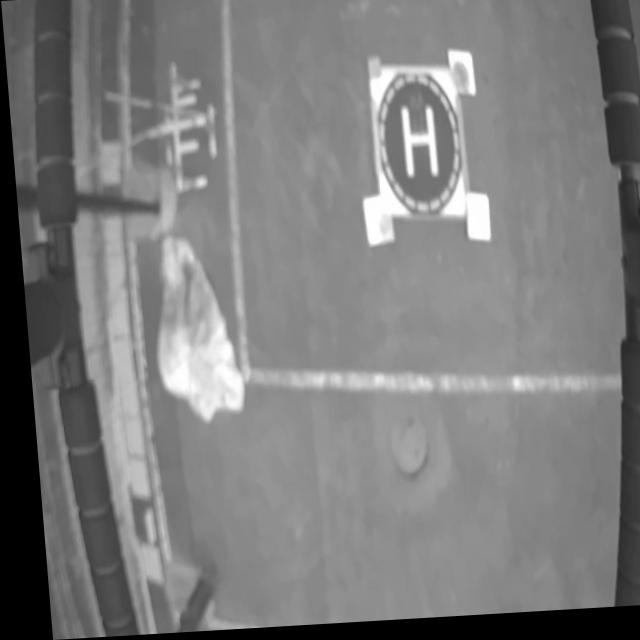Helipad: (399, 111, 434, 179)
